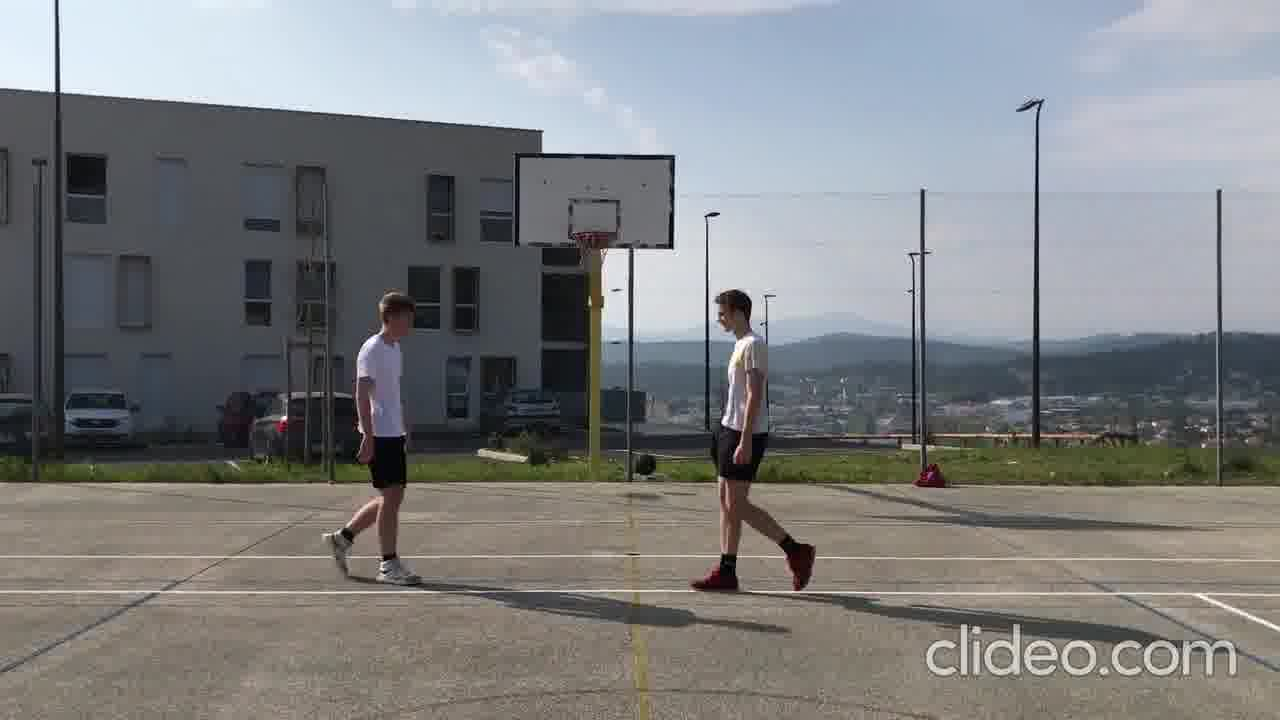jugador: (668, 281, 828, 601)
